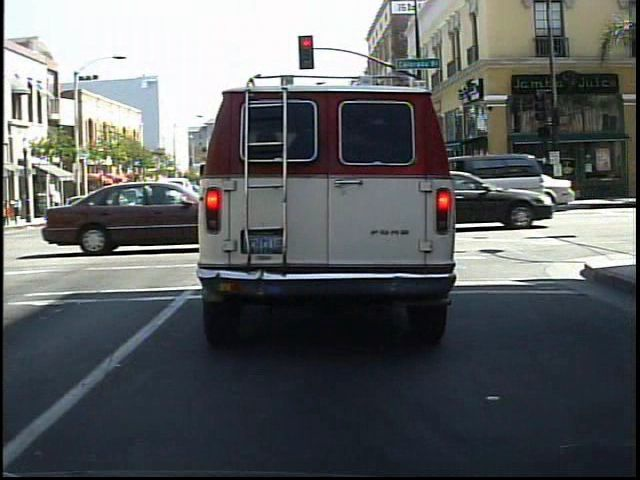person: (537, 154, 558, 204), (511, 161, 531, 206)
